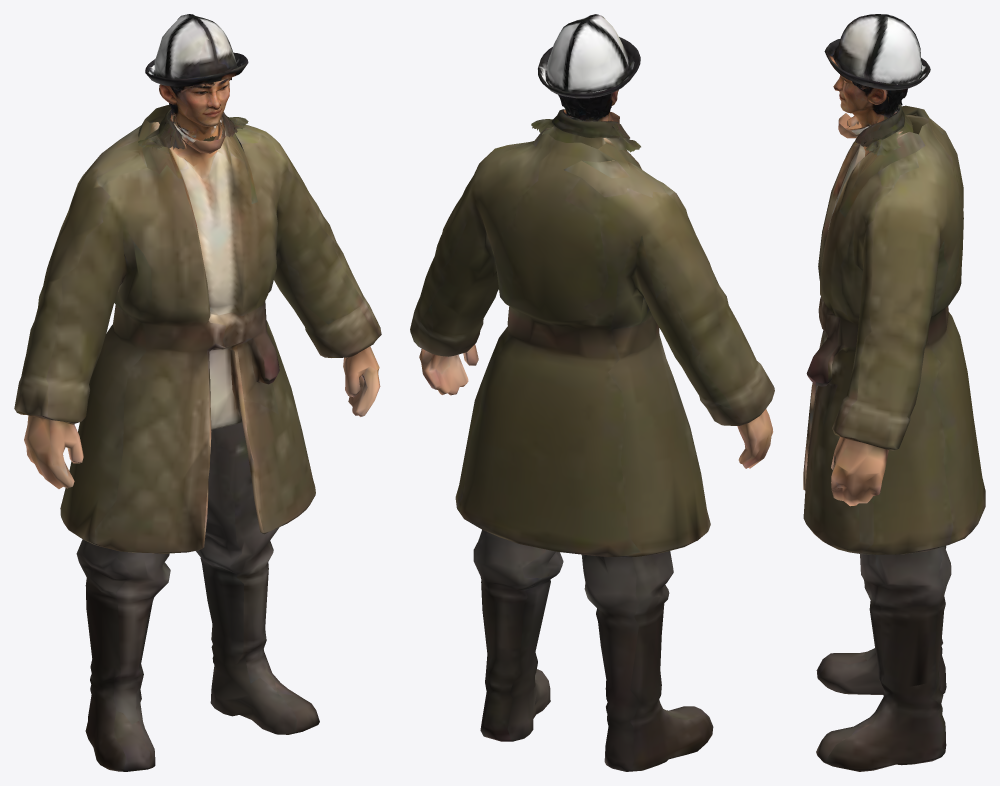
The model's file is herder-erlan.gen.phone.glb.
3 renders of one model, left to right at view 1: azimuth 30°, elevation 25°; view 2: azimuth 150°, elevation 25°; view 3: azimuth 270°, elevation 25°, orthographic.
Parts seen in each view (by area): view 1: herder-erlan.raw; view 2: herder-erlan.raw; view 3: herder-erlan.raw.
Part boxes in pixels (x1,y1,x2,y2): herder-erlan.raw: [14, 14, 381, 771]; herder-erlan.raw: [410, 14, 774, 771]; herder-erlan.raw: [803, 14, 985, 771].
Bounding box in the file's own units: 0.9567 × 1.85 × 0.4318.
1 material, 1 textured.
